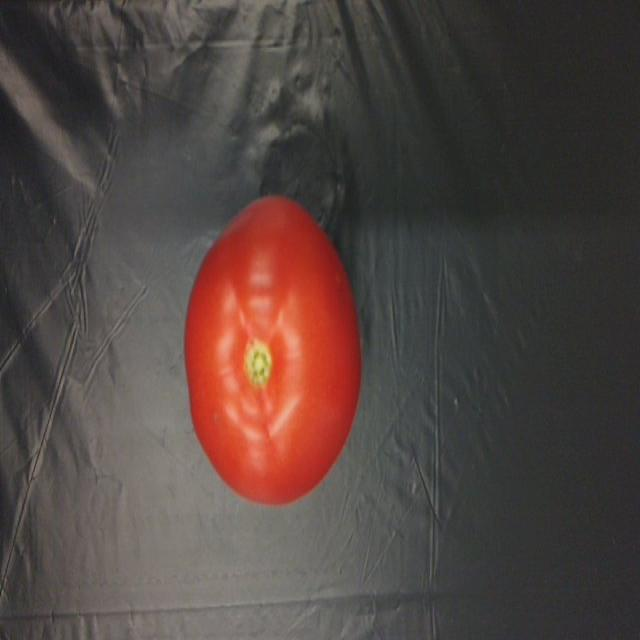kirmizi: (174, 186, 369, 504)
